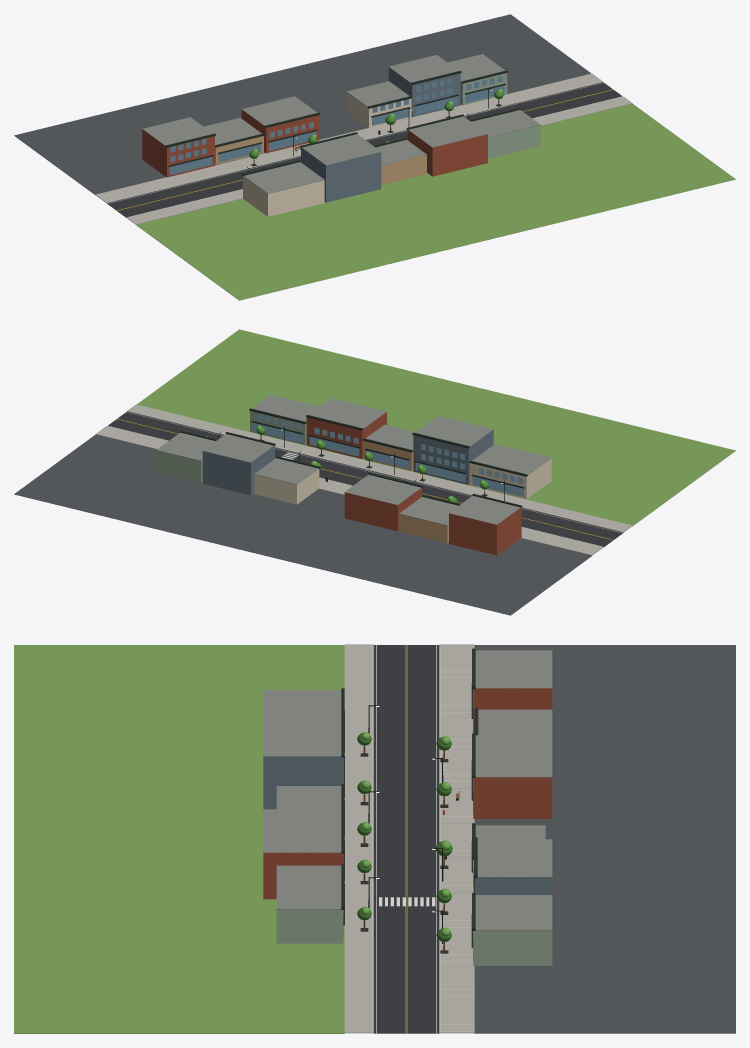
The model's file is street.glb.
3 views of the same model, one above another, from view 1: azimuth 30°, elevation 25°; view 2: azimuth 150°, elevation 25°; view 3: azimuth 270°, elevation 25° (orthographic). The views are drawn at different scales.
Visible parts, largest first — view 1: Street_Grass, Street_ParkingLot, Street_Roof, Street_Concrete, Street_Asphalt, Street_Brick, Street_Slate, Street_Windows, Street_Cream, Street_DarkTrim, Street_Sage, Street_Sand (+2 smaller); view 2: Street_Grass, Street_ParkingLot, Street_Roof, Street_Concrete, Street_Brick, Street_Asphalt, Street_Slate, Street_Windows, Street_Cream, Street_DarkTrim, Street_Sage, Street_Sand (+2 smaller); view 3: Street_Grass, Street_ParkingLot, Street_Roof, Street_Asphalt, Street_Concrete, Street_Brick, Street_Sage, Street_Slate, Street_DarkTrim, Street_Curb, Street_PaintWhite, Street_PaintYellow (+2 smaller).
Boxes of the visible parts, box(x1,y1,x2,y2) form: Street_Grass: box(136, 103, 735, 300); Street_ParkingLot: box(14, 14, 591, 194); Street_Roof: box(143, 54, 540, 193); Street_Concrete: box(96, 73, 632, 224); Street_Asphalt: box(107, 82, 622, 217); Street_Brick: box(142, 109, 487, 177); Street_Slate: box(301, 67, 460, 202); Street_Windows: box(169, 76, 504, 174); Street_Cream: box(243, 92, 411, 216); Street_DarkTrim: box(165, 70, 520, 176); Street_Sage: box(460, 73, 540, 158); Street_Sand: box(215, 136, 426, 184); Street_Grass: box(137, 329, 735, 525); Street_ParkingLot: box(14, 434, 591, 615); Street_Roof: box(157, 394, 551, 525); Street_Concrete: box(95, 404, 632, 555); Street_Brick: box(306, 412, 521, 555); Street_Asphalt: box(108, 411, 623, 547); Street_Slate: box(202, 430, 493, 495); Street_Windows: box(252, 414, 523, 496); Street_Cream: box(254, 458, 551, 504); Street_DarkTrim: box(180, 408, 527, 507); Street_Sage: box(156, 411, 306, 483); Street_Sand: box(363, 441, 448, 543); Street_Grass: box(14, 645, 344, 1033); Street_ParkingLot: box(474, 645, 735, 1033); Street_Roof: box(263, 650, 552, 930); Street_Asphalt: box(373, 645, 439, 1033); Street_Concrete: box(344, 644, 474, 1033); Street_Brick: box(263, 688, 552, 899); Street_Sage: box(276, 909, 552, 965); Street_Slate: box(263, 756, 552, 894); Street_DarkTrim: box(341, 648, 478, 953); Street_Curb: box(372, 644, 474, 1033); Street_PaintWhite: box(376, 645, 436, 1033); Street_PaintYellow: box(405, 645, 407, 1032).
Size of the model in its own units: 140 by 10.58 by 110.
